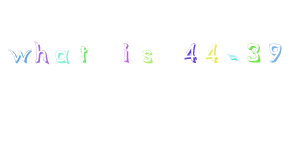-: (224, 45, 243, 71)
3: (245, 38, 264, 69)
4: (179, 38, 201, 71), (203, 39, 223, 70)
9: (266, 38, 286, 71)
a: (55, 46, 75, 72)
h: (33, 38, 52, 70)
i: (118, 39, 137, 70)
s: (139, 46, 157, 69)
t: (78, 40, 90, 68)
w: (5, 44, 32, 69)
